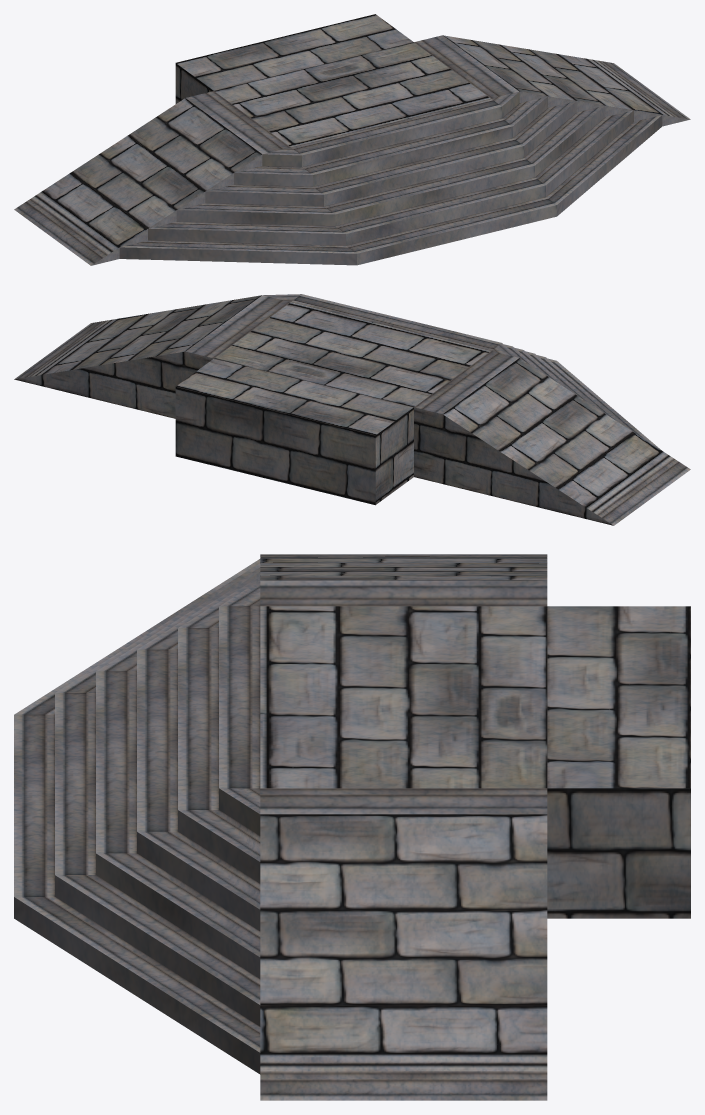
Rendered from sanctum_stairs_01.fbx.
The picture shows the model from 3 angles, top to bottom: view 1: azimuth 30°, elevation 25°; view 2: azimuth 150°, elevation 25°; view 3: azimuth 270°, elevation 25°; orthographic projection. The views are drawn at different scales.
Parts seen in each view (by area): view 1: sanctum_stairs_01; view 2: sanctum_stairs_01; view 3: sanctum_stairs_01.
Boxes of the visible parts, left/top/right/bottom form: sanctum_stairs_01: left=14, top=14, right=690, bottom=265; sanctum_stairs_01: left=14, top=294, right=690, bottom=525; sanctum_stairs_01: left=14, top=554, right=690, bottom=1100.
Bounding box in the file's own units: 1800 × 200 × 943.
